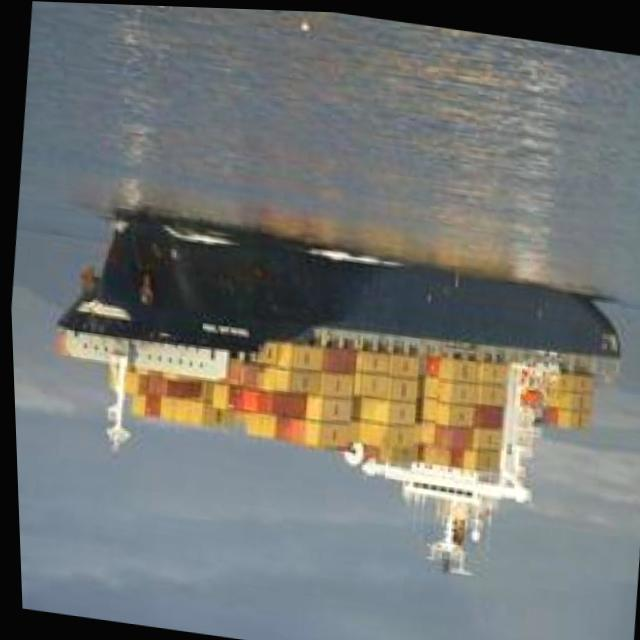ship2: (52, 213, 617, 572)
